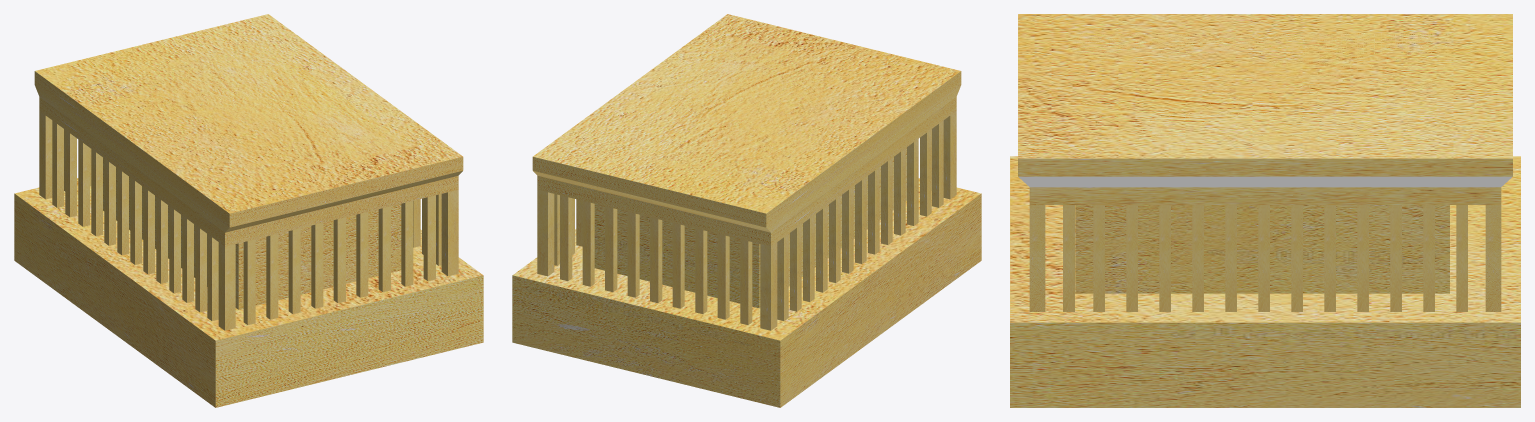
Rendered from anıtkabir rhino.fbx.
3 views of the same model, side by side, from view 1: azimuth 30°, elevation 25°; view 2: azimuth 150°, elevation 25°; view 3: azimuth 270°, elevation 25° (orthographic). The views are drawn at different scales.
Visible parts, largest first — view 1: yapı, zemin; view 2: yapı, zemin; view 3: yapı, zemin, Object_6.
Part boxes in pixels (left/top/right/bottom): yapı: left=14, top=14, right=483, bottom=407; zemin: left=103, top=39, right=410, bottom=309; yapı: left=512, top=14, right=981, bottom=407; zemin: left=594, top=38, right=906, bottom=308; yapı: left=1010, top=14, right=1520, bottom=407; zemin: left=1075, top=33, right=1449, bottom=293; Object_6: left=1018, top=176, right=1512, bottom=187.
Size of the model in its own units: 5000 by 6500 by 3350.
Materials: 3 (2 with a texture image).
